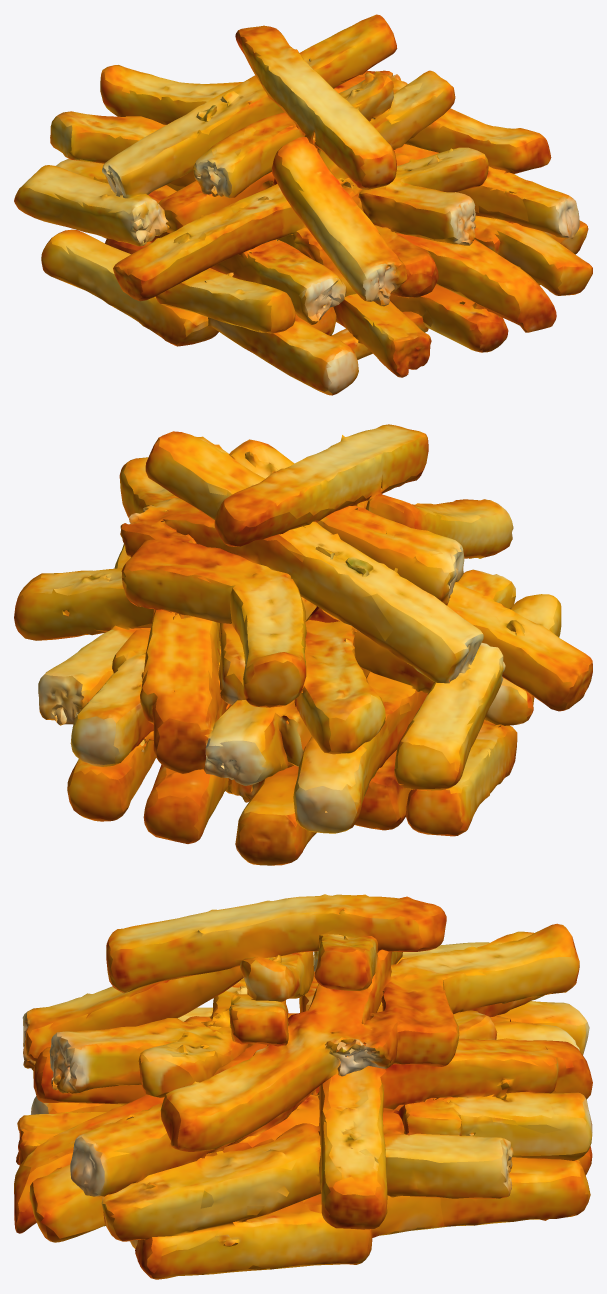
Rendered from rosemary-fries-1.glb.
3 renders of one model, top to bottom at view 1: azimuth 30°, elevation 25°; view 2: azimuth 150°, elevation 25°; view 3: azimuth 270°, elevation 25°, orthographic. The views are drawn at different scales.
Visible parts, largest first — view 1: geometry_0; view 2: geometry_0; view 3: geometry_0.
Part boxes in pixels (bbox=[...]): geometry_0: bbox=[14, 14, 592, 395]; geometry_0: bbox=[14, 424, 592, 865]; geometry_0: bbox=[14, 894, 592, 1279].
Bounding box in the file's own units: 0.07 × 0.0399 × 0.0701.
Materials: 1 (1 with a texture image).
